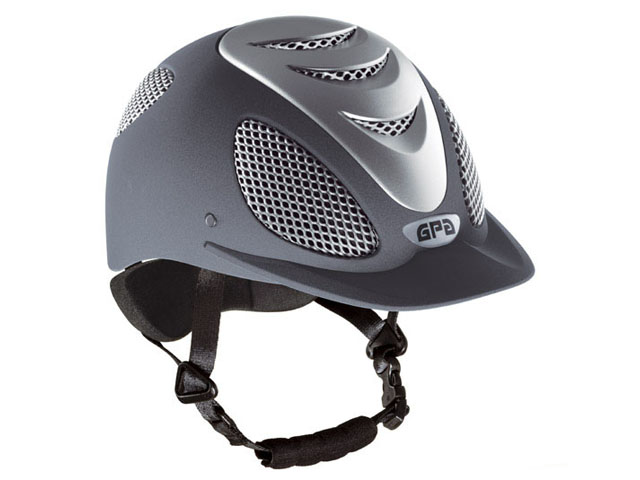helmet: (105, 16, 507, 244)
